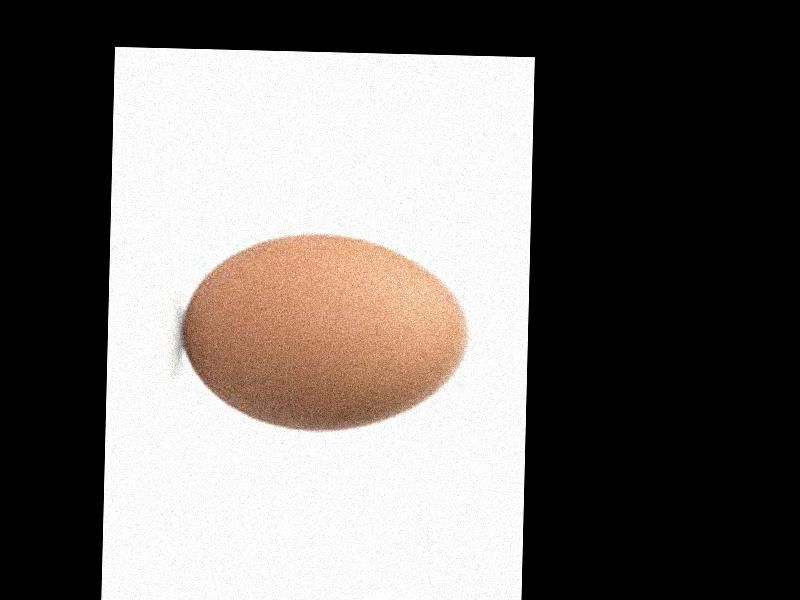Eggs: (178, 233, 466, 433)
